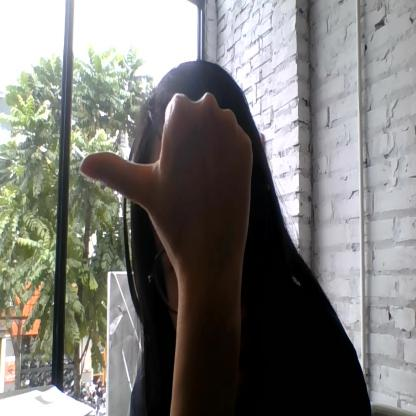right: (80, 92, 254, 256)
